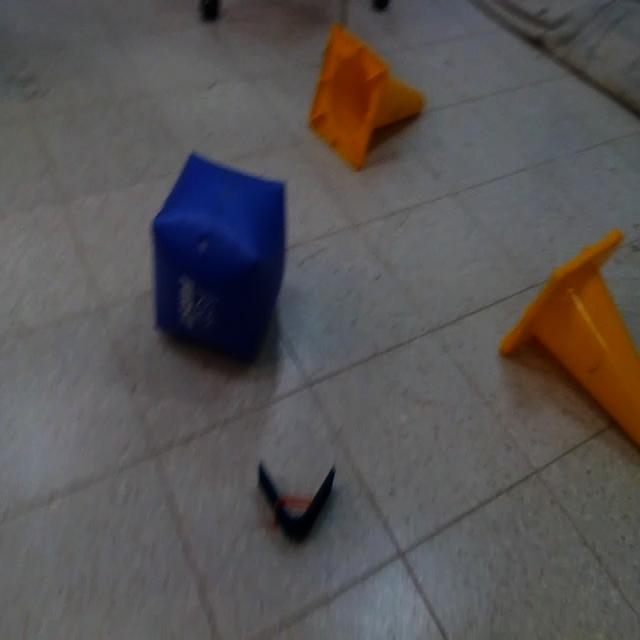cone: (499, 225, 640, 456), (307, 24, 425, 170)
cube: (152, 155, 287, 364)
